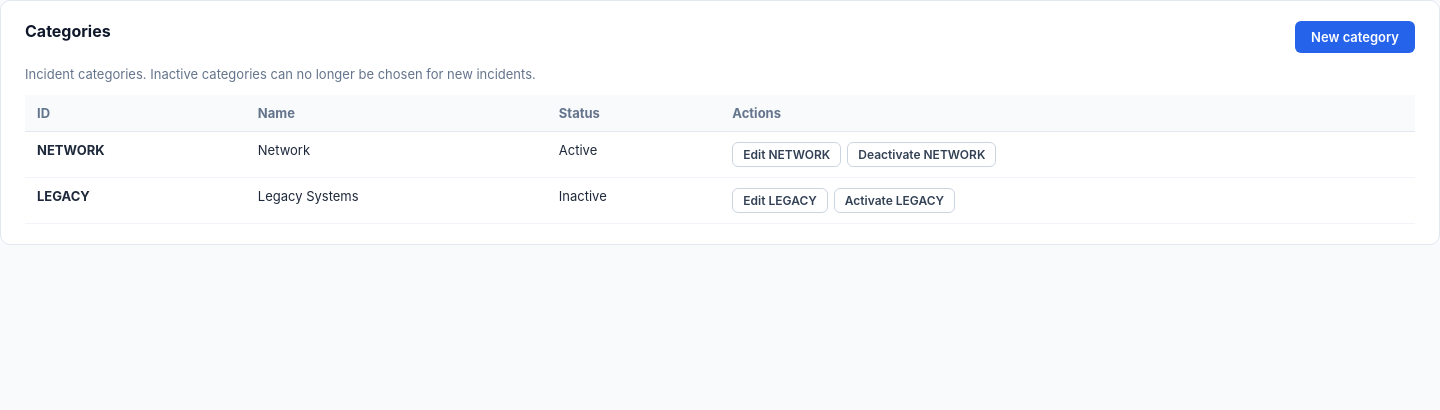
Test: CategoriesPanel › creates an active category and reloads
The width and height of the screenshot is (1440, 410).
Step 1. Click the button "New category" → (1355, 37), box [1295,21,1415,53]
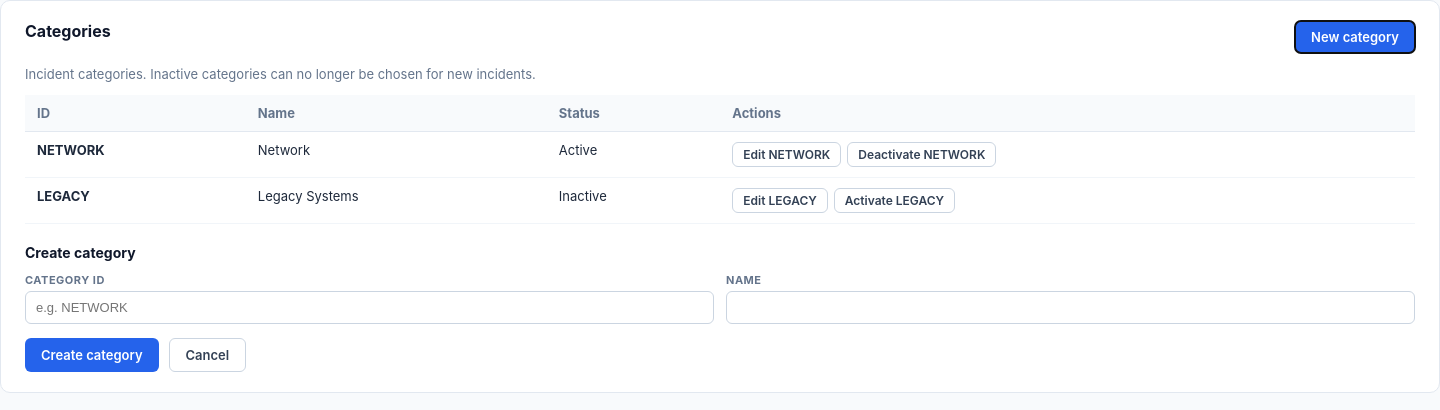
Step 2. Type "CLOUD_OPS" into the field labelled "Category ID" → (370, 308), box [25,291,714,324]
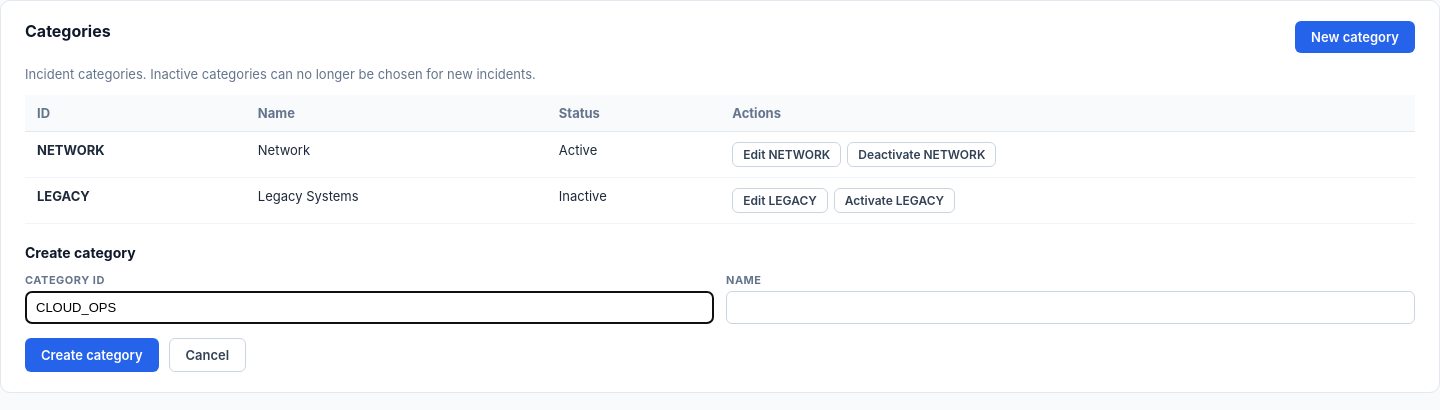
Step 3. Type "Cloud Operations" into the field labelled "Name" → (1070, 308), box [726,291,1415,324]
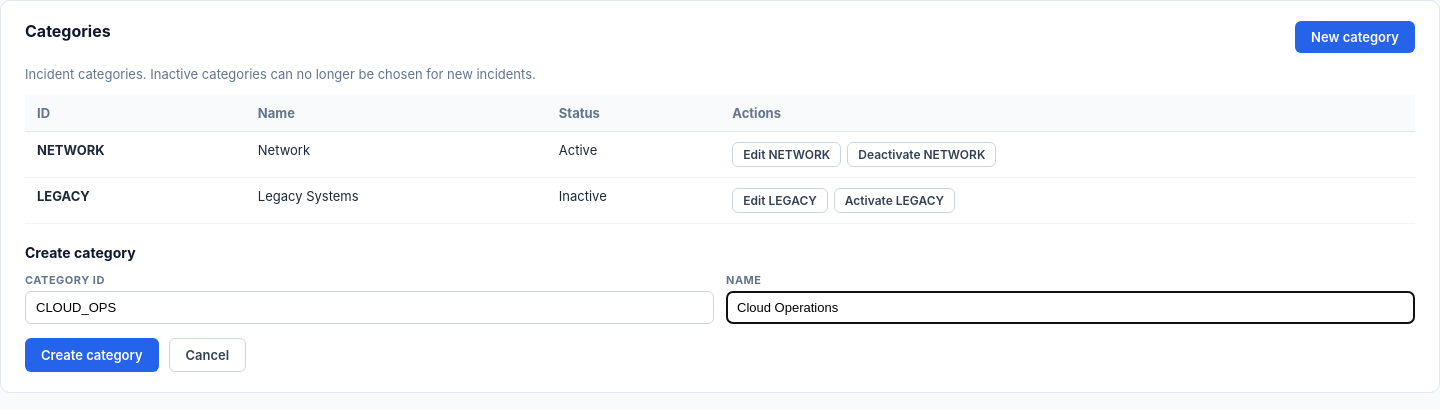
Step 4. Click the button "Create category" → (92, 355), box [25,338,158,372]
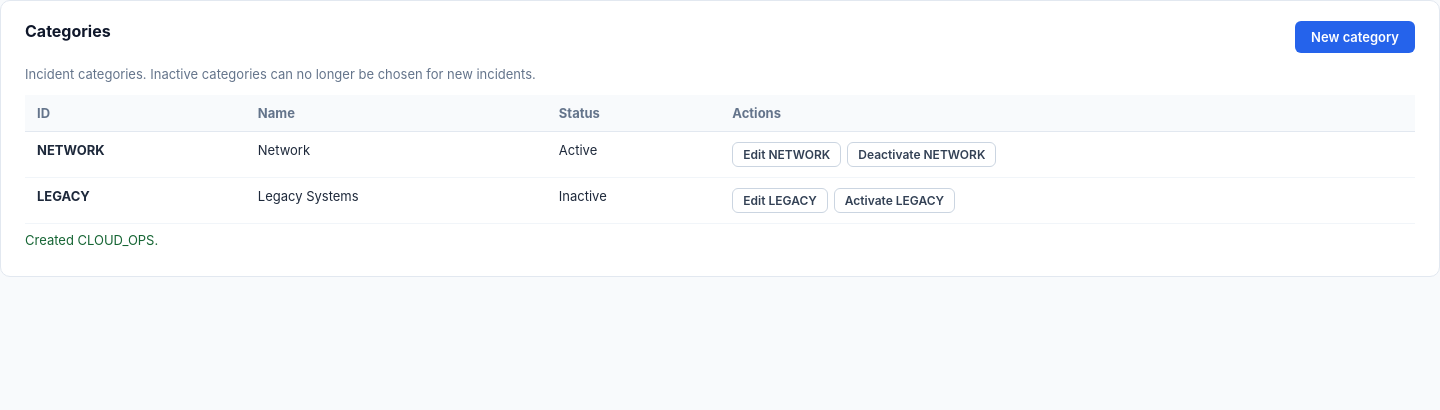
Expected: the message shows "Created CLOUD_OPS", [25,232,158,248]
